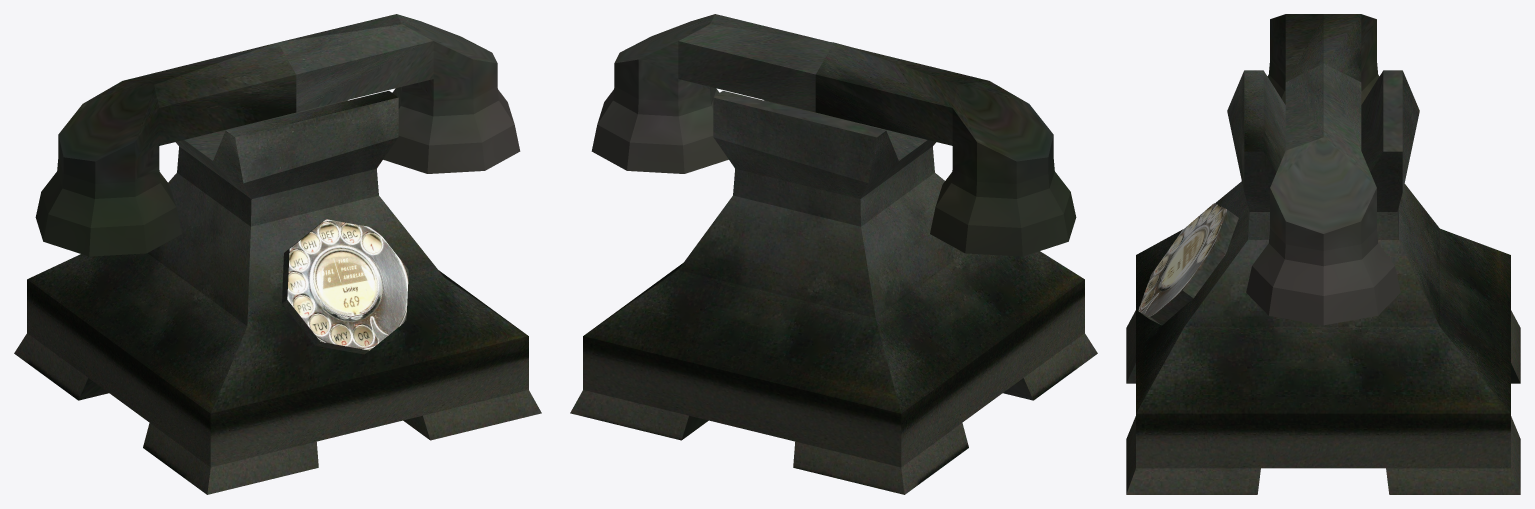
Rendered from phone.fbx.
The picture shows the model from 3 angles, left to right: view 1: azimuth 30°, elevation 25°; view 2: azimuth 150°, elevation 25°; view 3: azimuth 270°, elevation 25°; orthographic projection. The views are drawn at different scales.
Visible parts, largest first — view 1: Phone, PhoneHand; view 2: Phone, PhoneHand; view 3: Phone, PhoneHand.
Part boxes in pixels (x1,y1,x2,y2): Phone: (14,90,541,494); PhoneHand: (35,14,520,256); Phone: (570,90,1097,494); PhoneHand: (591,14,1076,256); Phone: (1126,70,1520,494); PhoneHand: (1246,14,1400,325).
Size of the model in its own units: 0.3769 by 0.2615 by 0.2687.
Materials: 1 (1 with a texture image).
